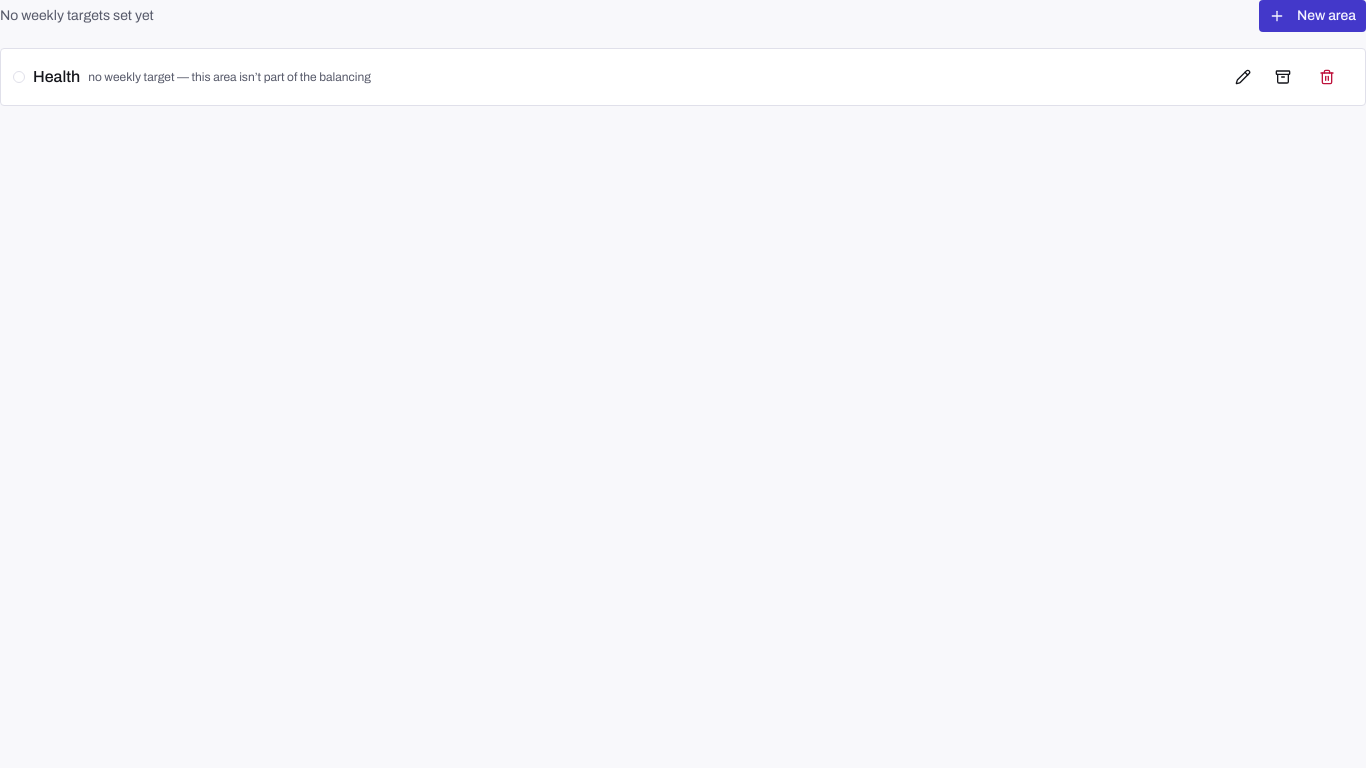
Test: AreasView › opens the create dialog from the header "New area" button
Click the button "New area" at (1312, 16), box [1259,0,1365,32]
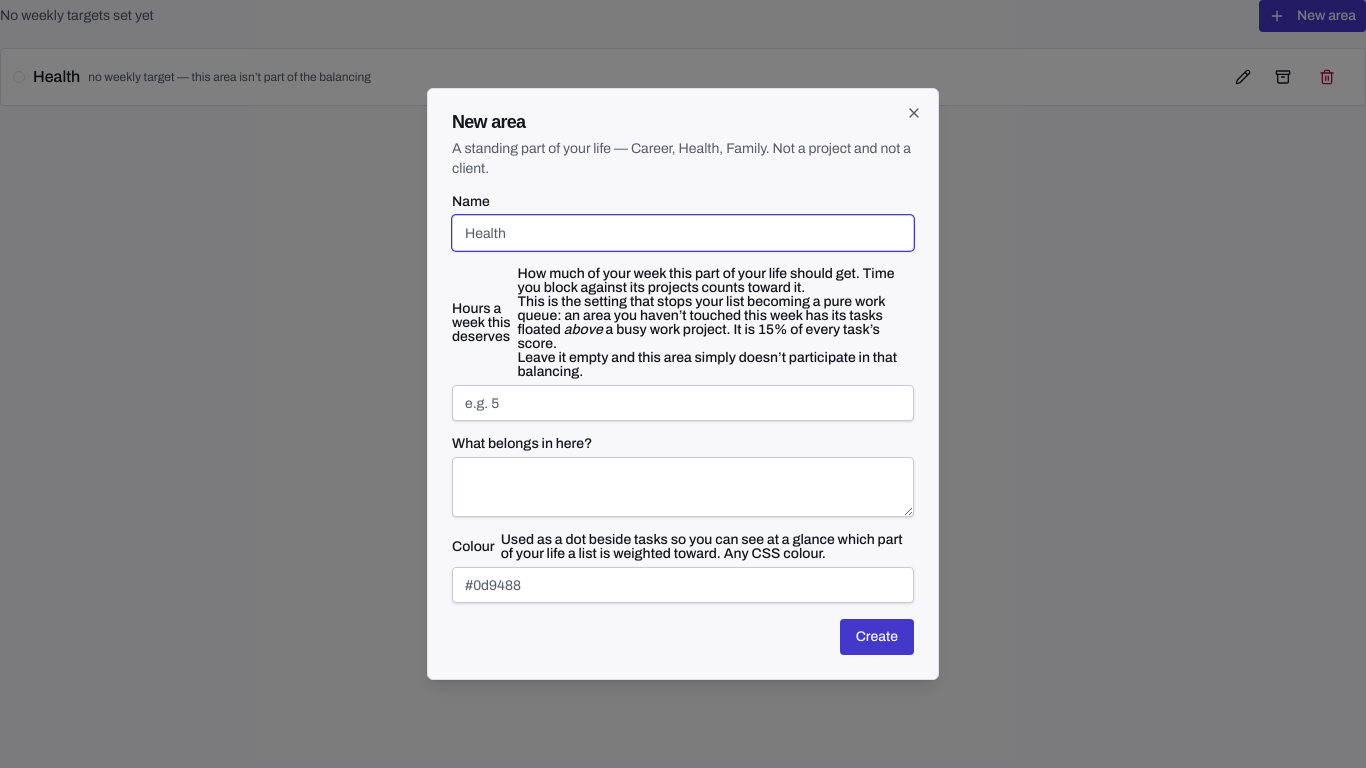
Check: the heading "New area" is shown, box [452,112,525,132]
Check: the field labelled "Name" is empty, box [452,215,914,251]
